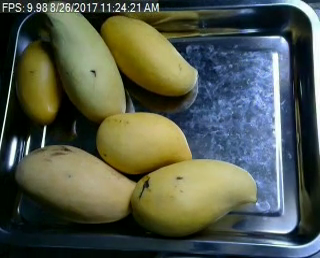Mango: (42, 3, 126, 123), (17, 144, 138, 224), (130, 159, 257, 234), (100, 15, 198, 95), (97, 112, 192, 174), (17, 41, 66, 121)
